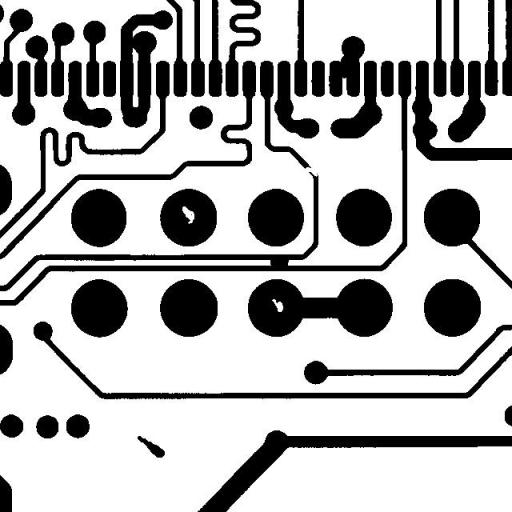copper: (130, 428, 172, 465)
open: (298, 159, 324, 184)
pin-hole: (174, 198, 202, 232), (264, 291, 290, 319)
short: (262, 248, 296, 277), (332, 48, 357, 86)
